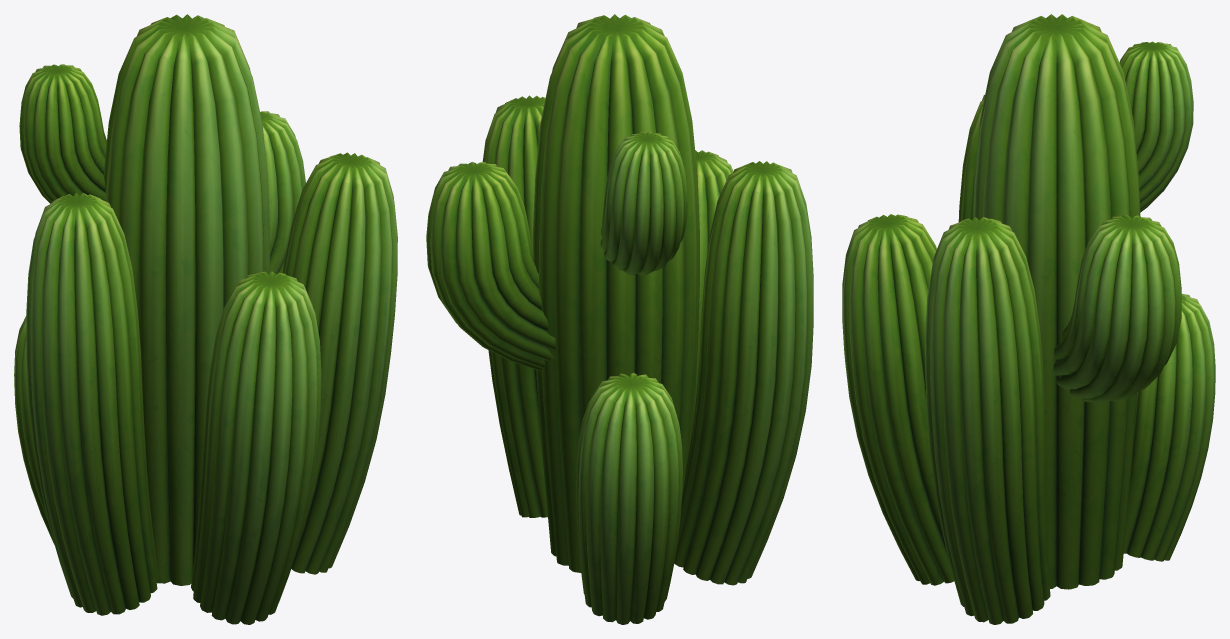
The model's file is DE_Cactus_32.fbx.
3 renders of one model, left to right at view 1: azimuth 30°, elevation 25°; view 2: azimuth 150°, elevation 25°; view 3: azimuth 270°, elevation 25°, orthographic. The views are drawn at different scales.
Parts seen in each view (by area): view 1: DE_Cactus_32; view 2: DE_Cactus_32; view 3: DE_Cactus_32.
Part boxes in pixels (x1,y1,x2,y2): DE_Cactus_32: (14, 14, 397, 624); DE_Cactus_32: (426, 14, 813, 624); DE_Cactus_32: (842, 14, 1215, 624).
Size of the model in its own units: 3.44 by 5.34 by 3.25.
